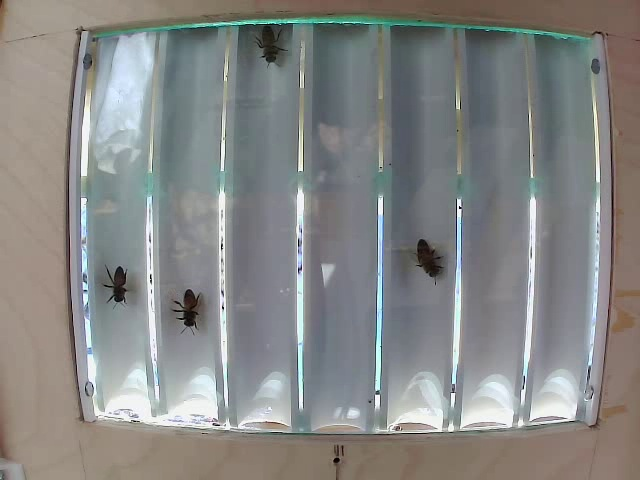bee: (407, 222, 456, 288), (164, 287, 213, 336), (260, 9, 290, 73), (94, 263, 136, 303)
